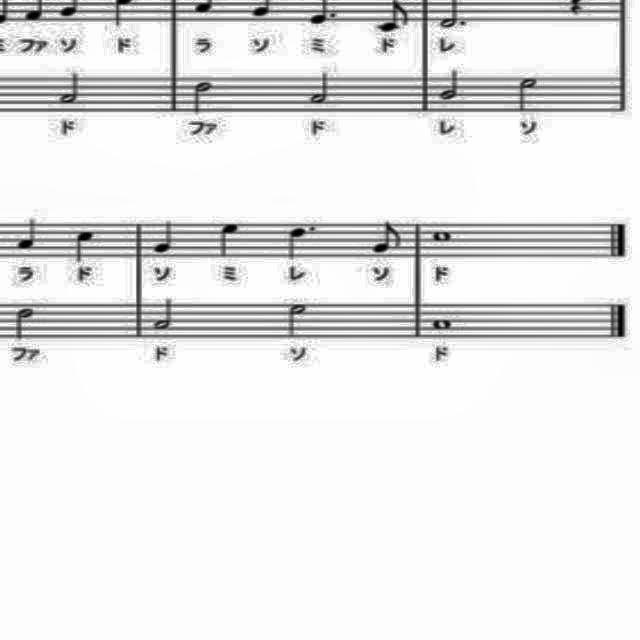Eighth-note: (368, 220, 406, 258), (375, 0, 411, 32)
Full-note: (428, 225, 459, 249), (430, 314, 456, 334)
Half-note: (52, 67, 90, 109), (182, 77, 218, 119), (434, 66, 466, 108), (309, 66, 335, 110), (11, 305, 41, 343), (284, 300, 312, 340), (509, 75, 538, 113), (152, 298, 180, 336)
Quarter-dot: (287, 221, 321, 265)
Quarter-note: (214, 219, 242, 261), (151, 218, 179, 258), (73, 228, 101, 264), (12, 217, 40, 251)
